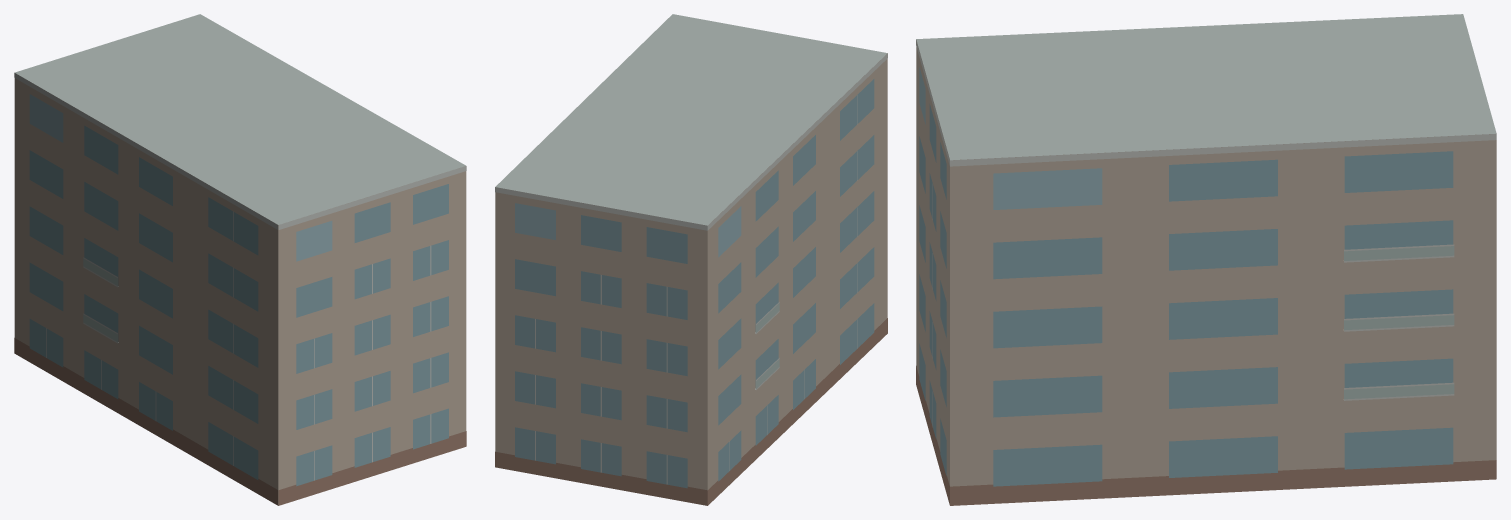
The model's file is survey-upis-32655447.glb.
3 views of the same model, side by side, from view 1: azimuth 30°, elevation 25°; view 2: azimuth 150°, elevation 25°; view 3: azimuth 270°, elevation 25° (orthographic). The views are drawn at different scales.
Parts seen in each view (by area): view 1: survey-upis-32655447.tmp; view 2: survey-upis-32655447.tmp; view 3: survey-upis-32655447.tmp.
Part boxes in pixels (left/top/right/bottom): survey-upis-32655447.tmp: left=14, top=14, right=466, bottom=505; survey-upis-32655447.tmp: left=495, top=14, right=887, bottom=505; survey-upis-32655447.tmp: left=916, top=14, right=1496, bottom=505.
Bounding box in the file's own units: 12.08 × 13.3 × 20.26.
